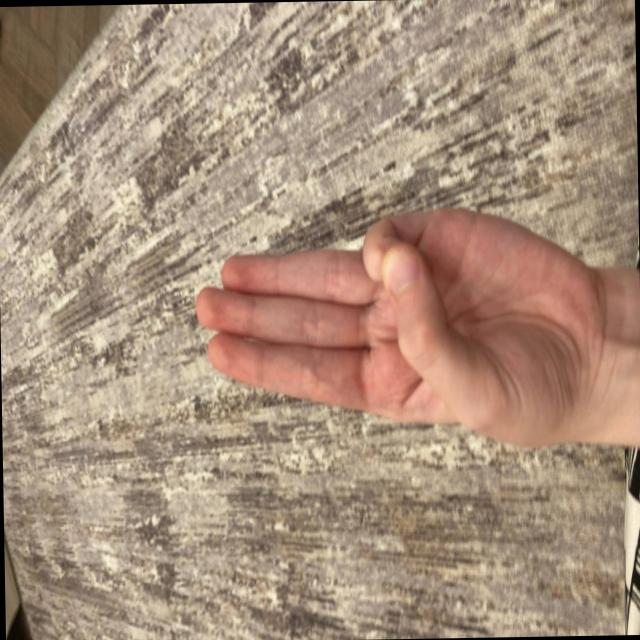sh: (185, 209, 592, 422)
